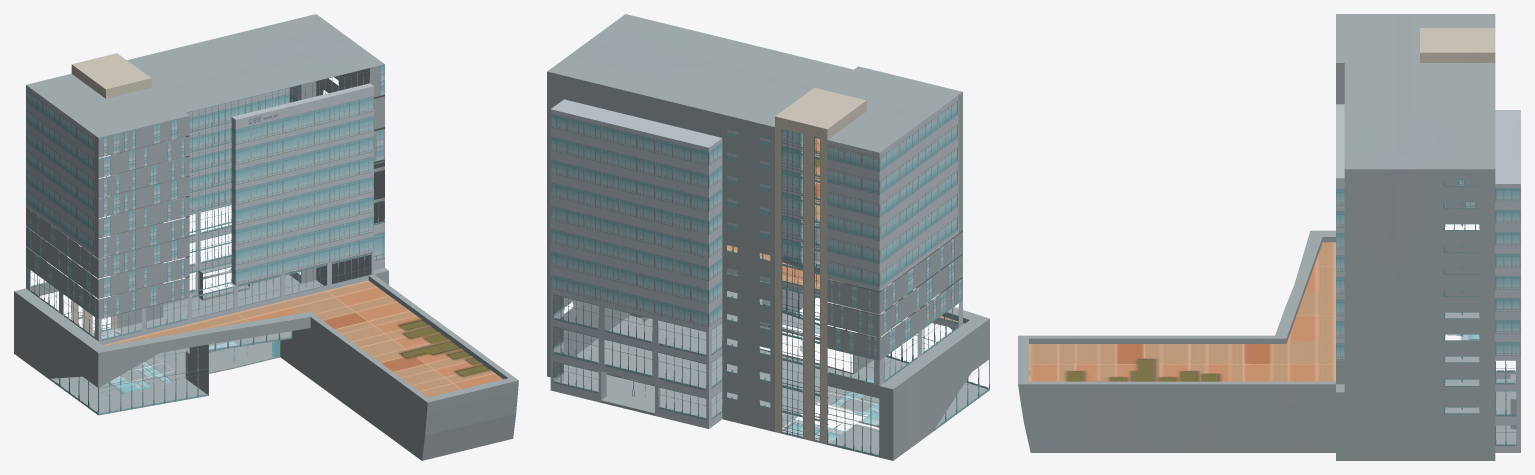
File: building_yeonam.fbx
The picture shows the model from 3 angles, left to right: view 1: azimuth 30°, elevation 25°; view 2: azimuth 150°, elevation 25°; view 3: azimuth 270°, elevation 25°; orthographic projection. The views are drawn at different scales.
Parts seen in each view (by area): view 1: building_yeonam; view 2: building_yeonam; view 3: building_yeonam.
Boxes of the visible parts, box(x1,y1,x2,y2) form: building_yeonam: box(14, 14, 518, 460); building_yeonam: box(547, 14, 989, 460); building_yeonam: box(1018, 14, 1520, 460).
Bounding box in the file's own units: 3.81 × 3.32 × 5.
1 material, 1 textured.
